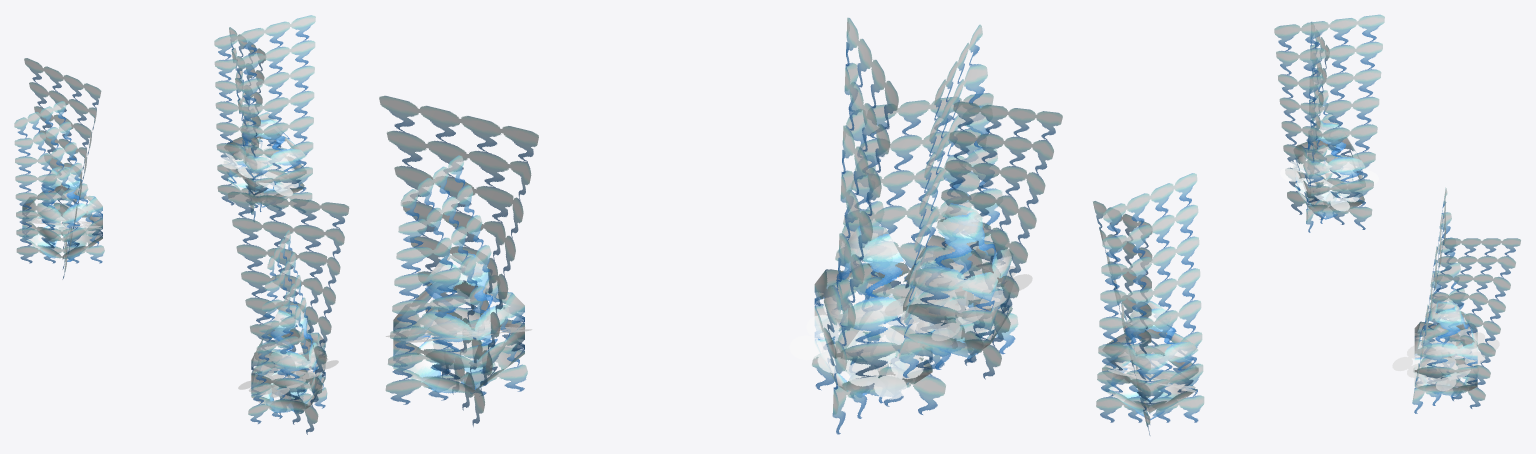
The model's file is 3360IMIG14_03.gltf.
3 renders of one model, left to right at view 1: azimuth 30°, elevation 25°; view 2: azimuth 150°, elevation 25°; view 3: azimuth 270°, elevation 25°, orthographic. The views are drawn at different scales.
Visible parts, largest first — view 1: 3360IMIG14_03; view 2: 3360IMIG14_03; view 3: 3360IMIG14_03.
Part boxes in pixels (x1,y1,x2,y2): 3360IMIG14_03: [14, 15, 349, 434]; 3360IMIG14_03: [379, 17, 1062, 434]; 3360IMIG14_03: [1093, 14, 1520, 435].
Size of the model in its own units: 0.991 by 0.8254 by 0.9663.
Materials: 2 (2 with a texture image).
